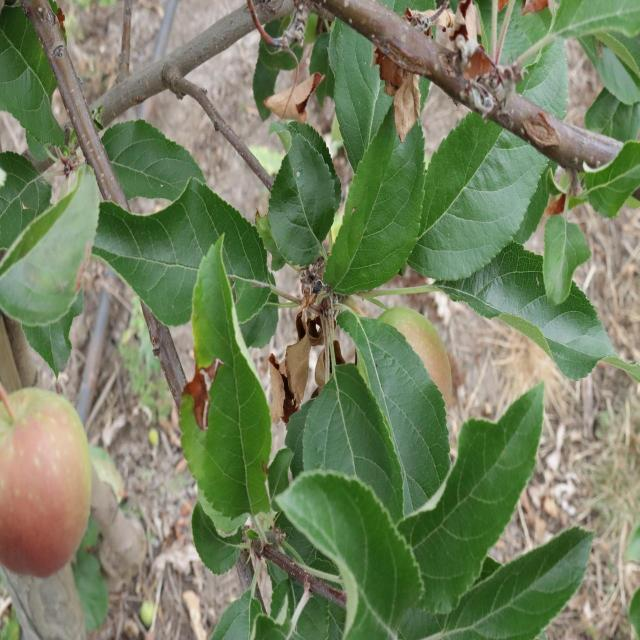-FireBlight-: (274, 276, 348, 398), (374, 41, 442, 152), (423, 0, 493, 78), (276, 38, 326, 126), (175, 358, 222, 431)
